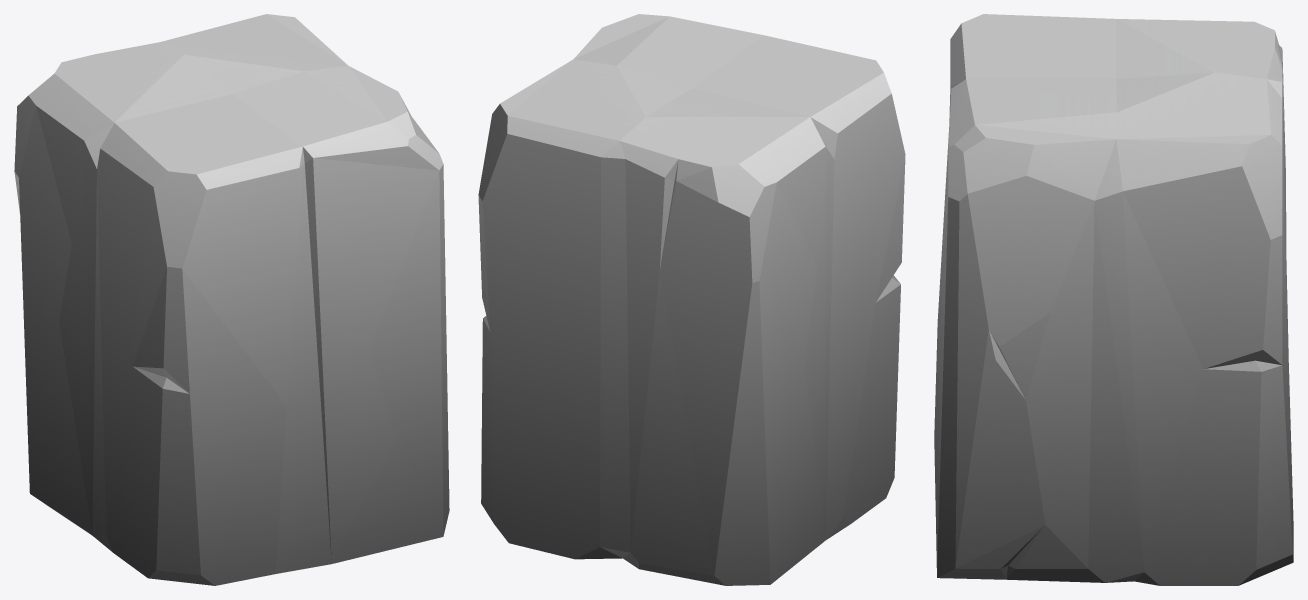
Rendered from RockBlock1.fbx.
3 renders of one model, left to right at view 1: azimuth 30°, elevation 25°; view 2: azimuth 150°, elevation 25°; view 3: azimuth 270°, elevation 25°, orthographic. The views are drawn at different scales.
Visible parts, largest first — view 1: RockBlock1; view 2: RockBlock1; view 3: RockBlock1.
Boxes of the visible parts, <box> form: RockBlock1: <box>14,14,449,585</box>; RockBlock1: <box>478,14,905,585</box>; RockBlock1: <box>934,14,1293,585</box>.
Size of the model in its own units: 0.9109 by 1.25 by 0.9227.
